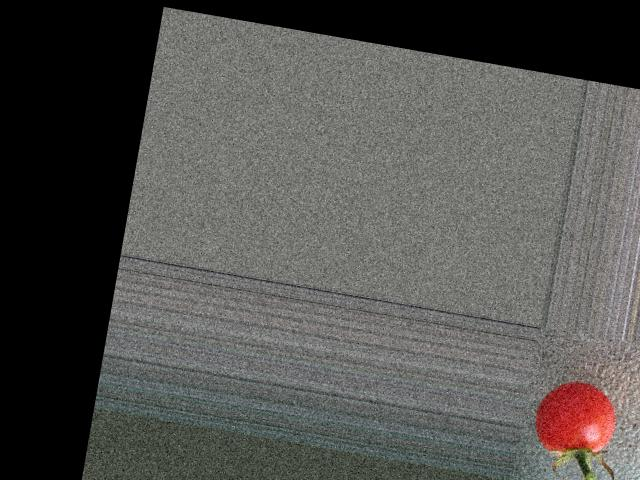tomato: (531, 375, 623, 461)
